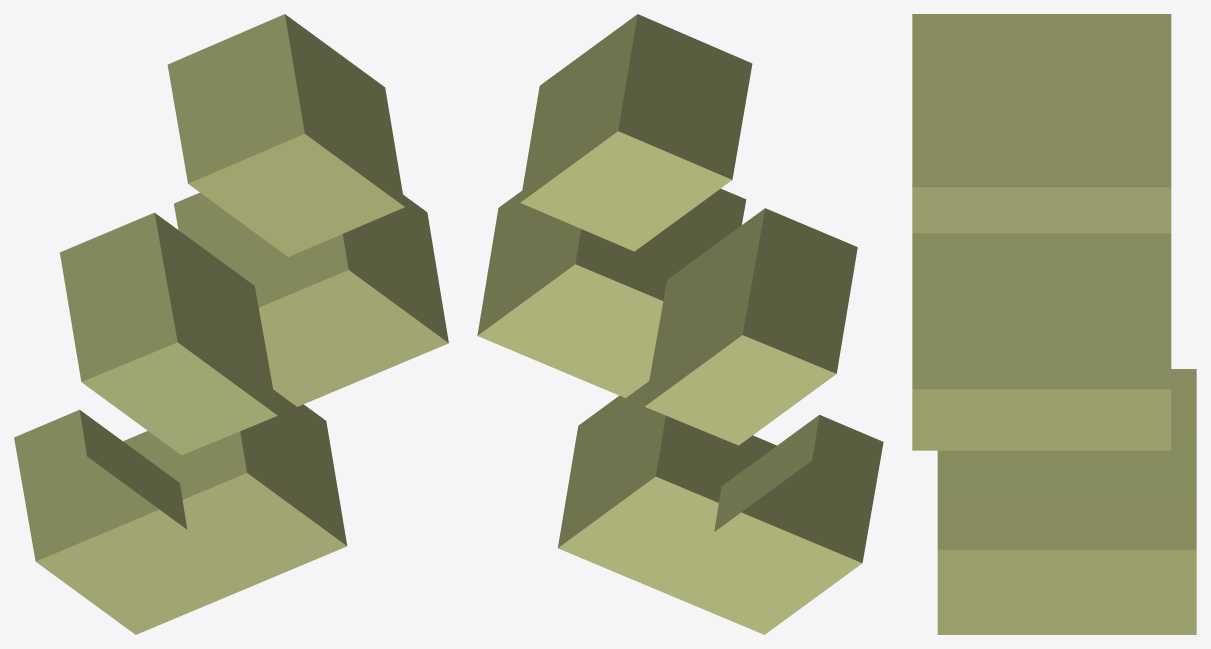
3 views of the same model, side by side, from view 1: azimuth 30°, elevation 25°; view 2: azimuth 150°, elevation 25°; view 3: azimuth 270°, elevation 25° (orthographic). The views are drawn at different scales.
Visible parts, largest first — view 1: 0_1_2_3_3_3_3_3_0_2; view 2: 0_1_2_3_3_3_3_3_0_2; view 3: 0_1_2_3_3_3_3_3_0_2.
Boxes of the visible parts, x1,y1,x2,y2 form: 0_1_2_3_3_3_3_3_0_2: (14,14,448,634); 0_1_2_3_3_3_3_3_0_2: (477,14,883,634); 0_1_2_3_3_3_3_3_0_2: (912,14,1196,634).
Size of the model in its own units: 16.85 by 24.58 by 9.87.
